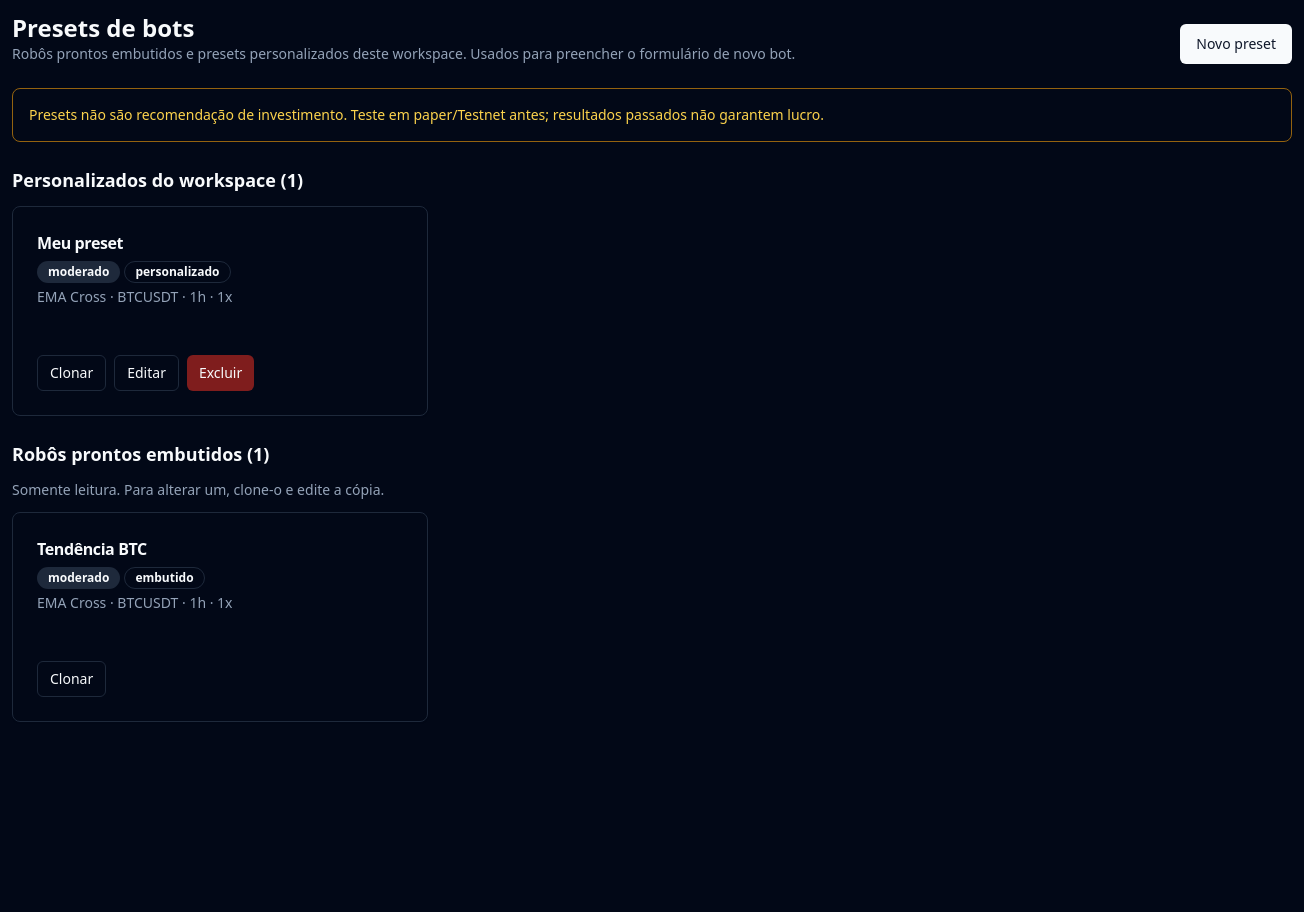
Test case: PresetsPage › lets a workspace admin clone a built-in
Click the button with aria-label "Clonar Tendência BTC". click: (72, 679)
box: [37,661,106,697]
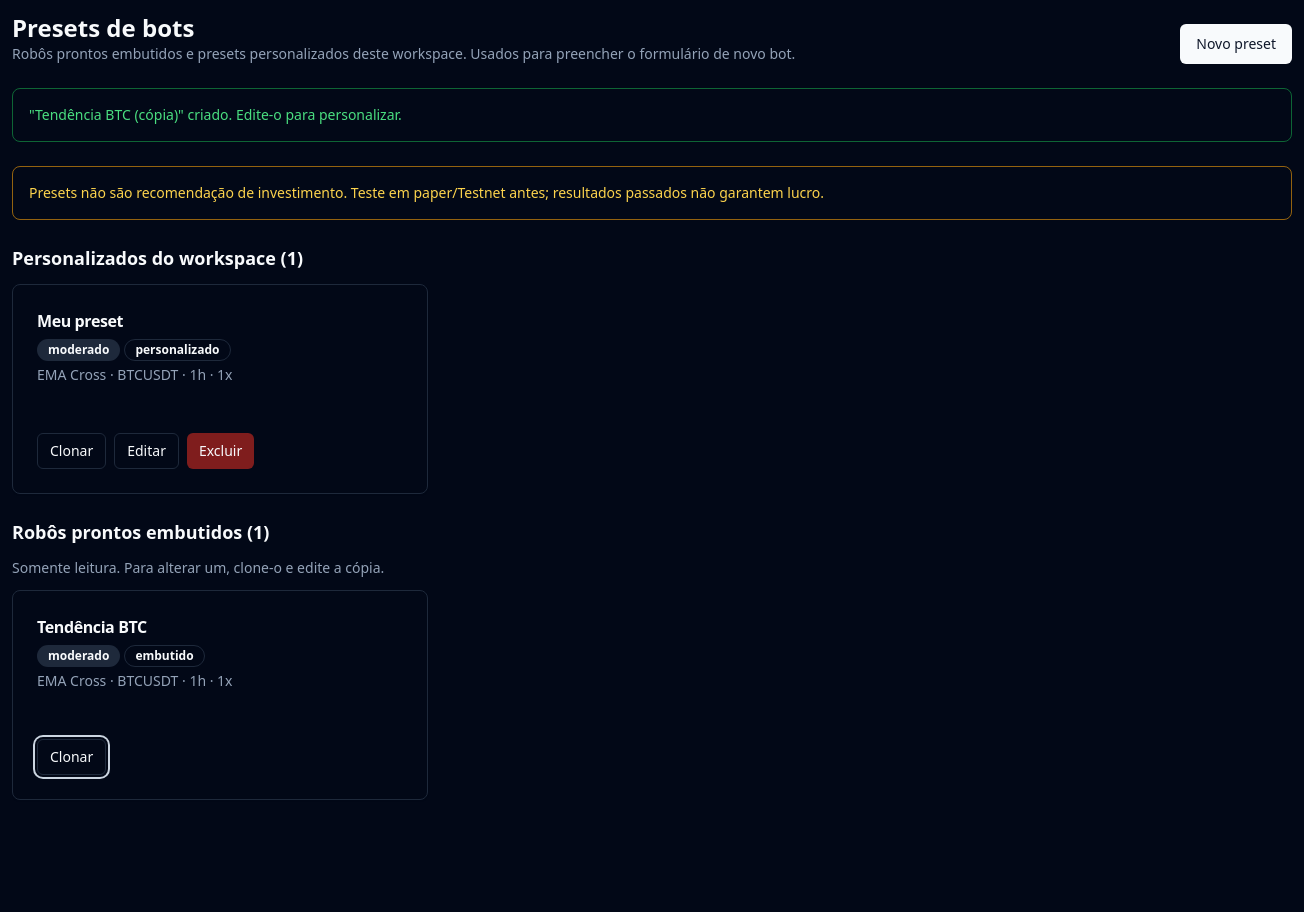
expect the text "\"Tendência BTC (cópia)\" criado. Edite-o para personalizar." is shown: met, box [12,88,1292,142]
